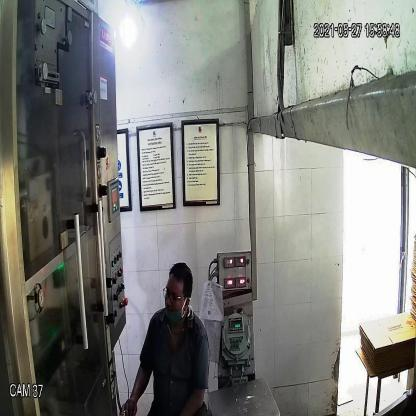goggles: (160, 280, 194, 309)
